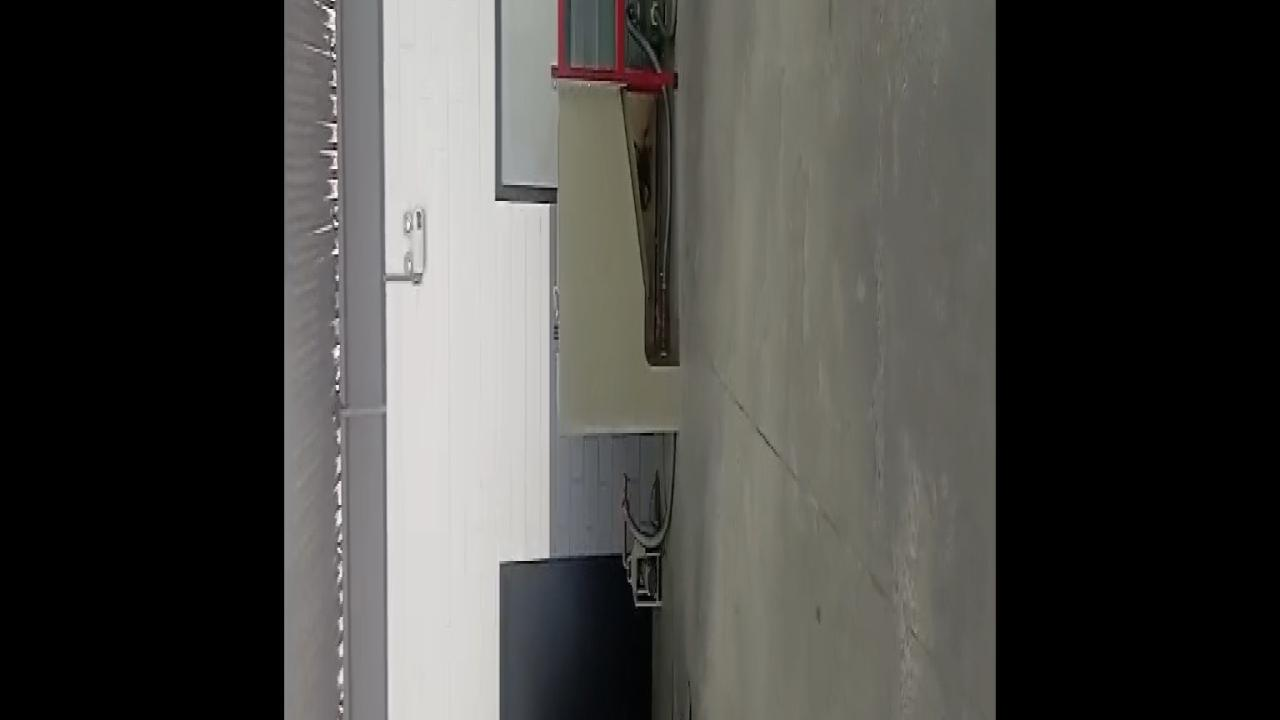Cube: (553, 323, 559, 340)
